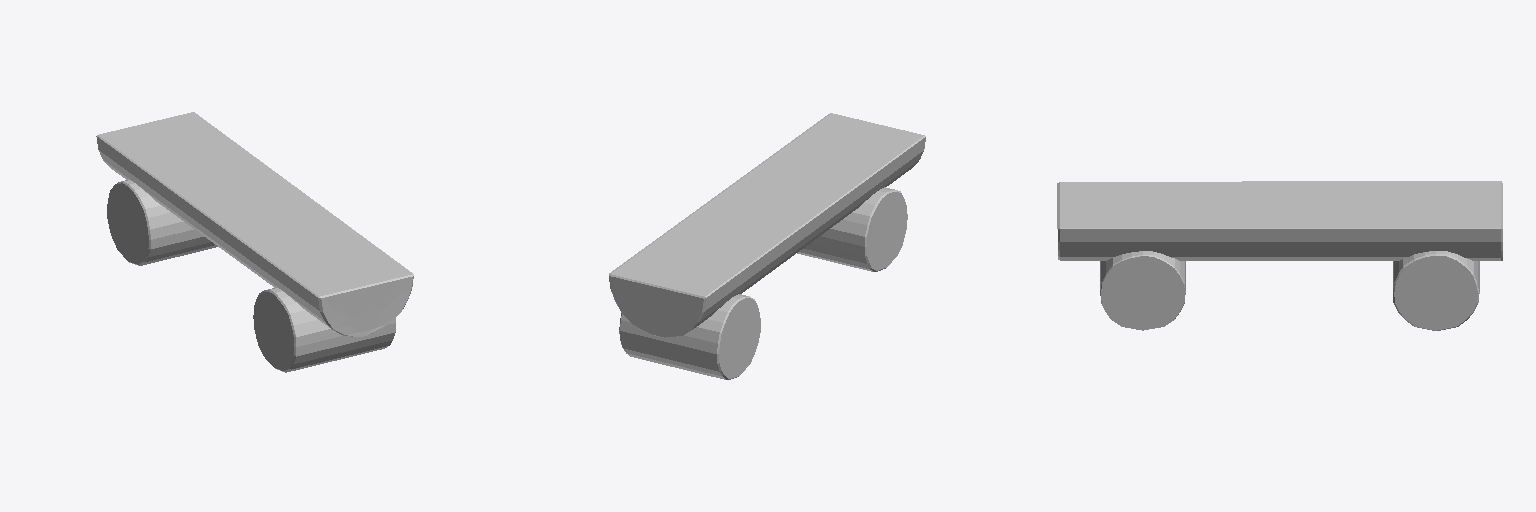
The model's file is bench.obj.
3 views of the same model, side by side, from view 1: azimuth 30°, elevation 25°; view 2: azimuth 150°, elevation 25°; view 3: azimuth 270°, elevation 25° (orthographic).
Visible parts, largest first — view 1: bench_meshId0_name; view 2: bench_meshId0_name; view 3: bench_meshId0_name.
Boxes of the visible parts, <box> form: bench_meshId0_name: <box>96,112,413,372</box>; bench_meshId0_name: <box>609,113,925,379</box>; bench_meshId0_name: <box>1057,181,1502,330</box>.
Size of the model in its own units: 0.4774 by 0.467 by 1.82.